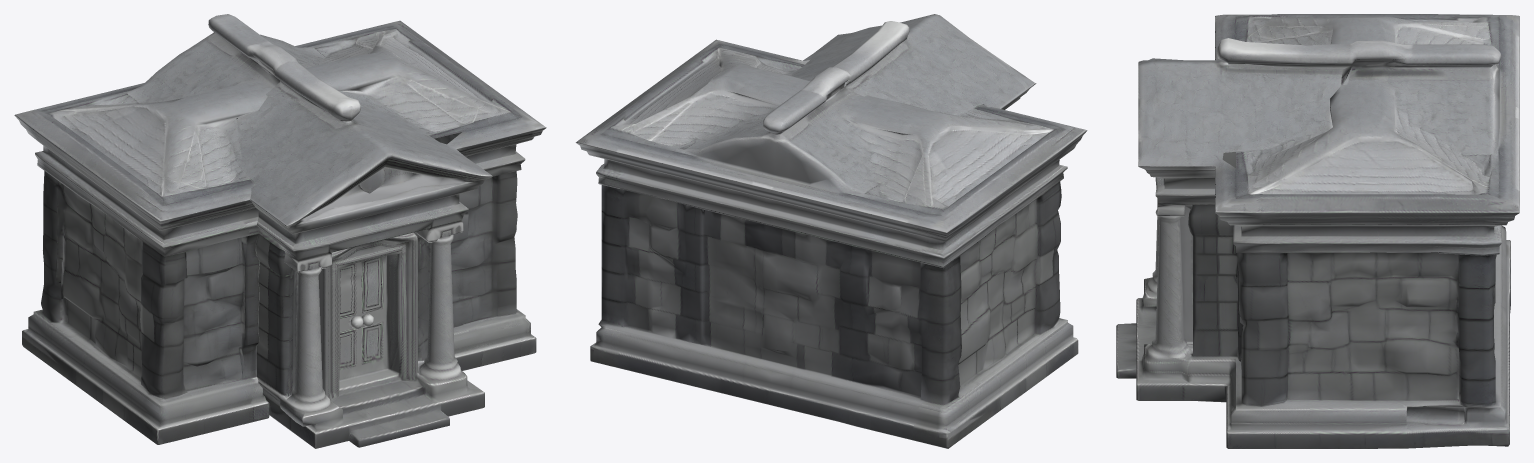
Rendered from grave_mausoleum_front.glb.
3 renders of one model, left to right at view 1: azimuth 30°, elevation 25°; view 2: azimuth 150°, elevation 25°; view 3: azimuth 270°, elevation 25°, orthographic. The views are drawn at different scales.
Size of the model in its own units: 1.91 by 1.41 by 1.65.
Materials: 1 (1 with a texture image).
